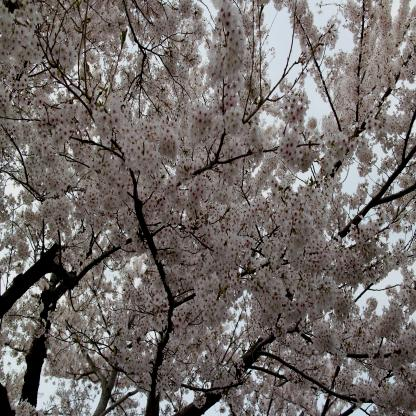Someiyoshino: (2, 2, 415, 414)
